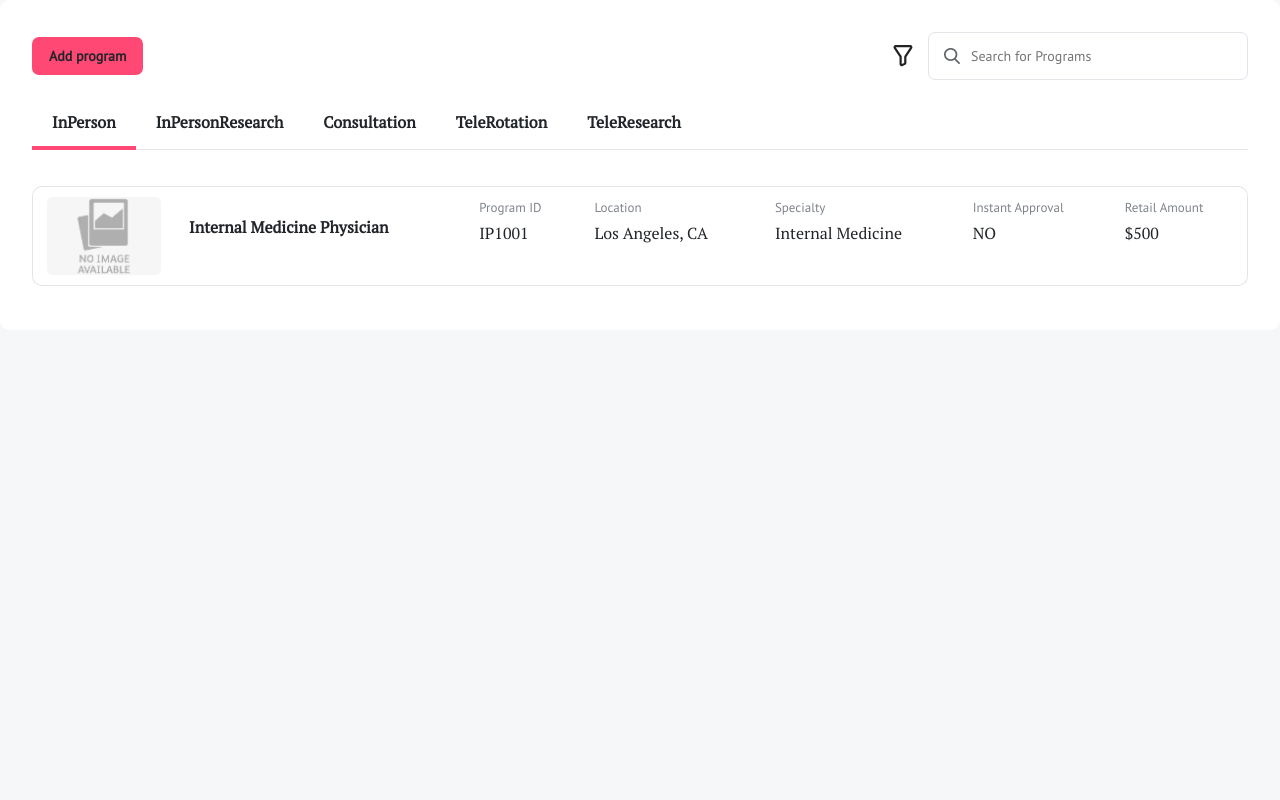
ProgramsPage › creates a program from the form defaults plus a chosen specialty
The image size is (1280, 800).
Expected: the text "Program ID" is shown, x1=479 y1=199 x2=542 y2=216
Click the button "Add program". click: [88, 56]
box: x1=32 y1=37 x2=143 y2=75
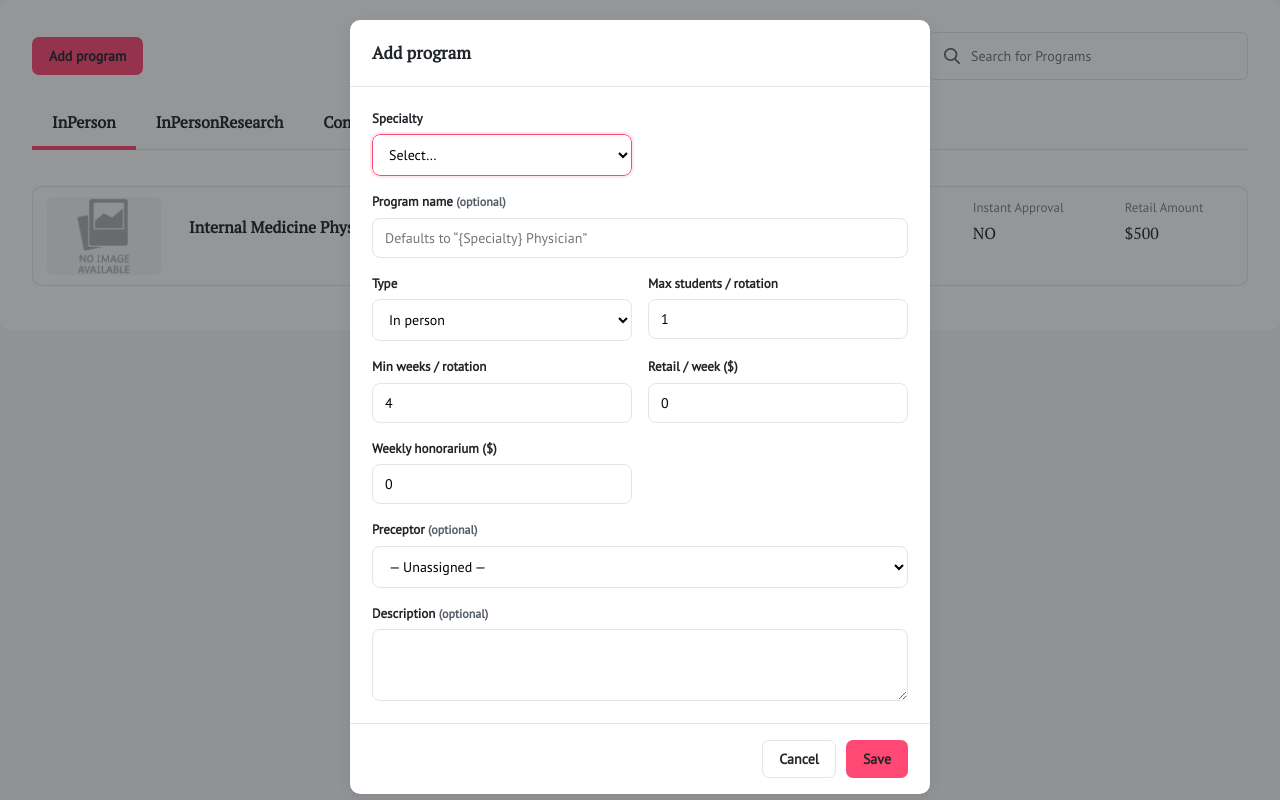
Select "Pediatrics" in the dropdown labelled "Specialty". click: [502, 155]
box: x1=372 y1=134 x2=632 y2=176
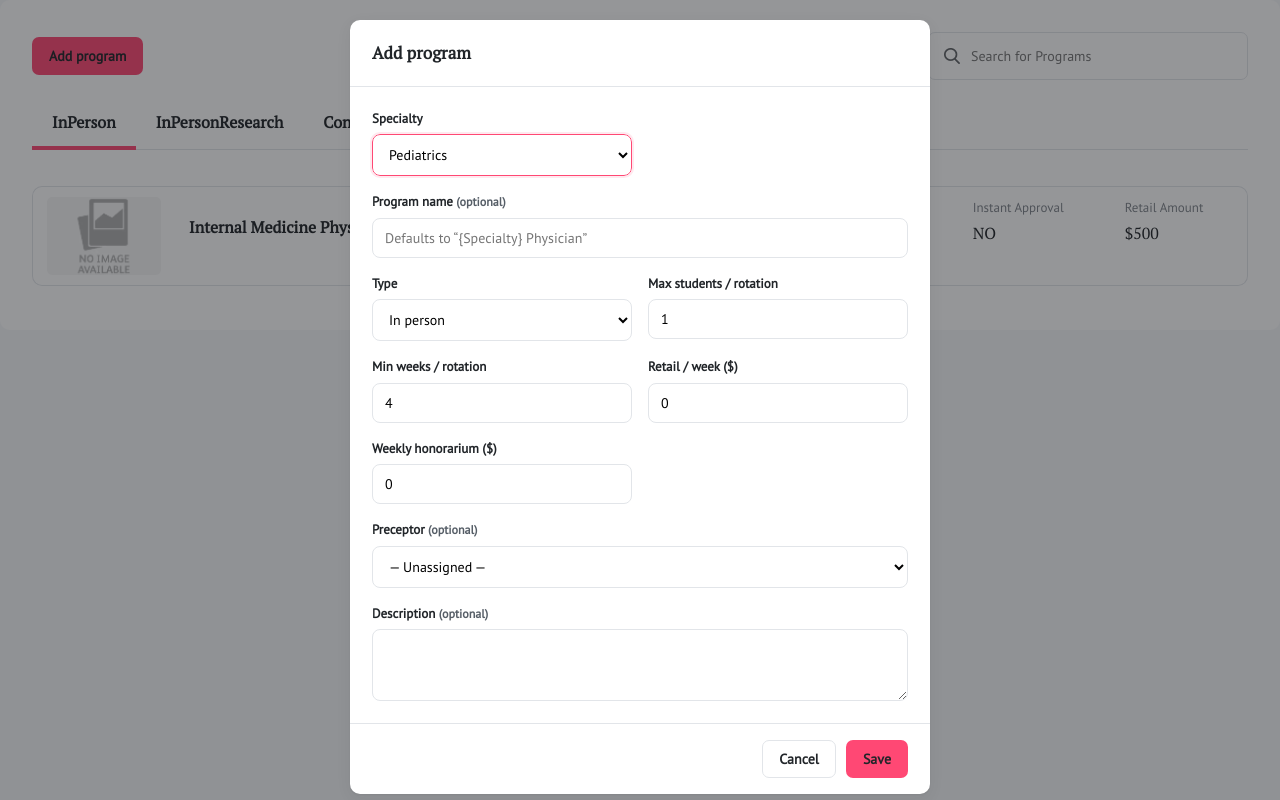
Click the button "Save". click: [877, 759]
box: x1=846 y1=740 x2=908 y2=778
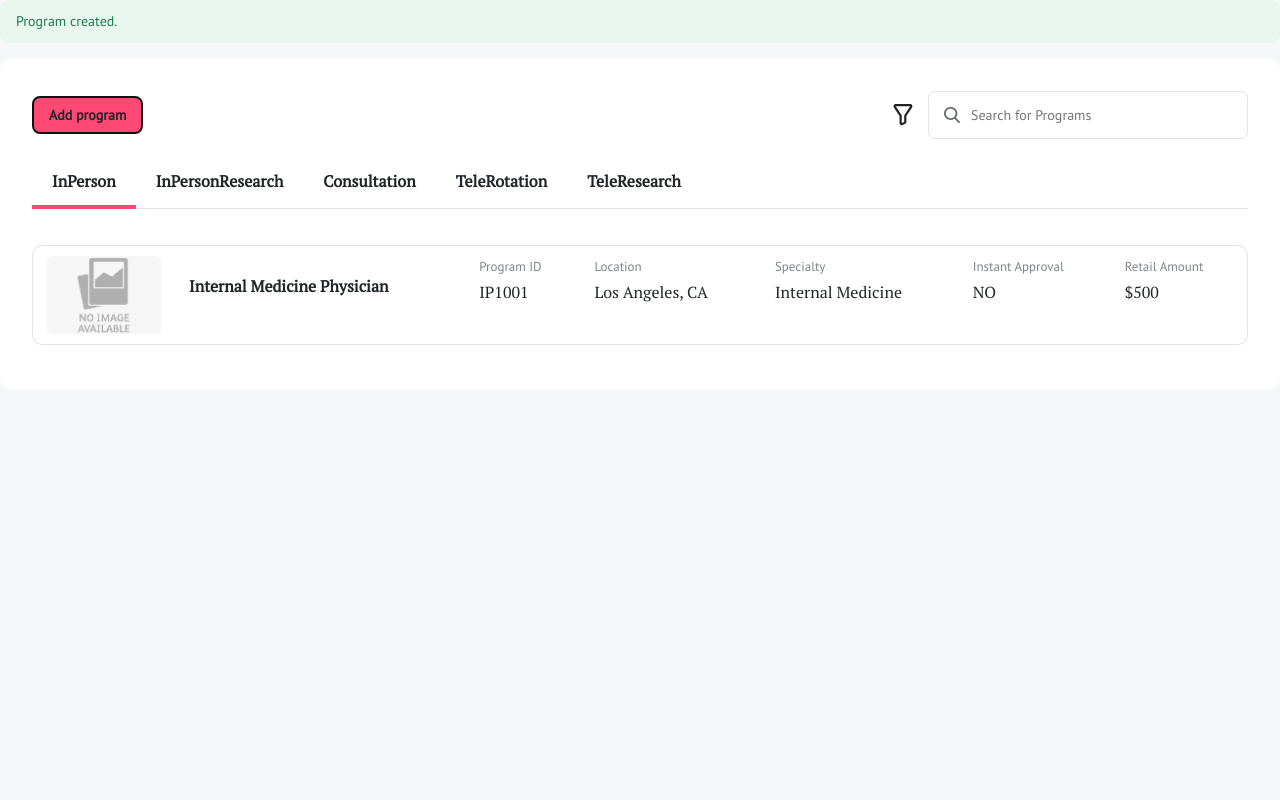
Now the text "Program created." is shown, box x1=0 y1=0 x2=1279 y2=43
